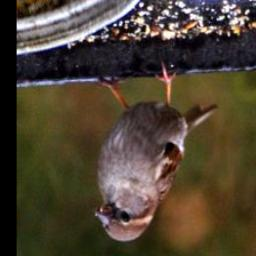Sparrow: (91, 58, 218, 245)
